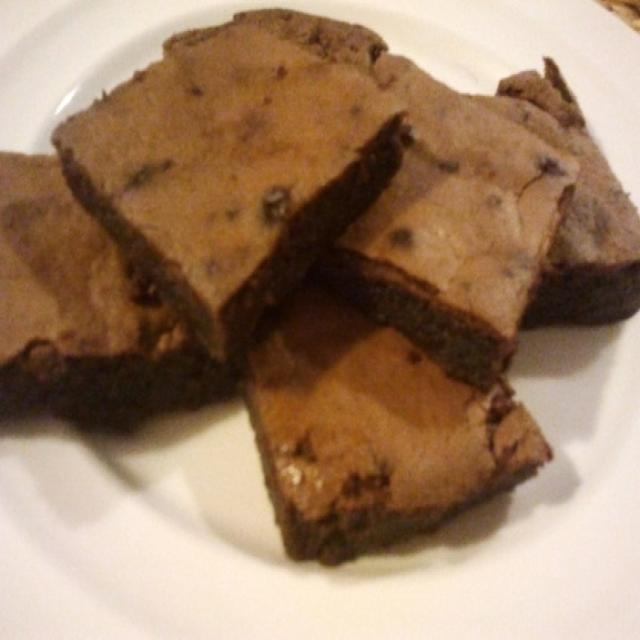蛋糕甜品: (10, 13, 629, 597)
